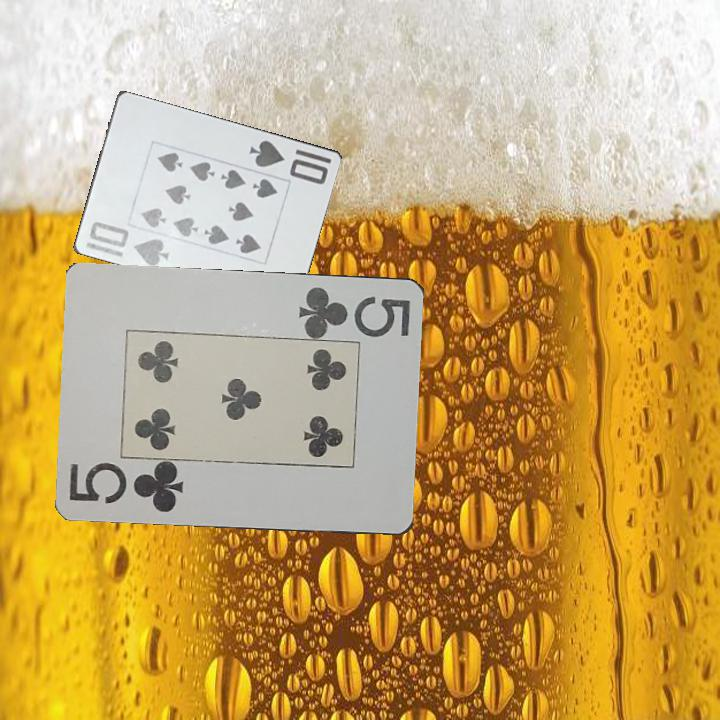5c: (66, 458, 187, 515), (296, 282, 414, 339)
Ts: (245, 137, 334, 188), (85, 218, 171, 269)
